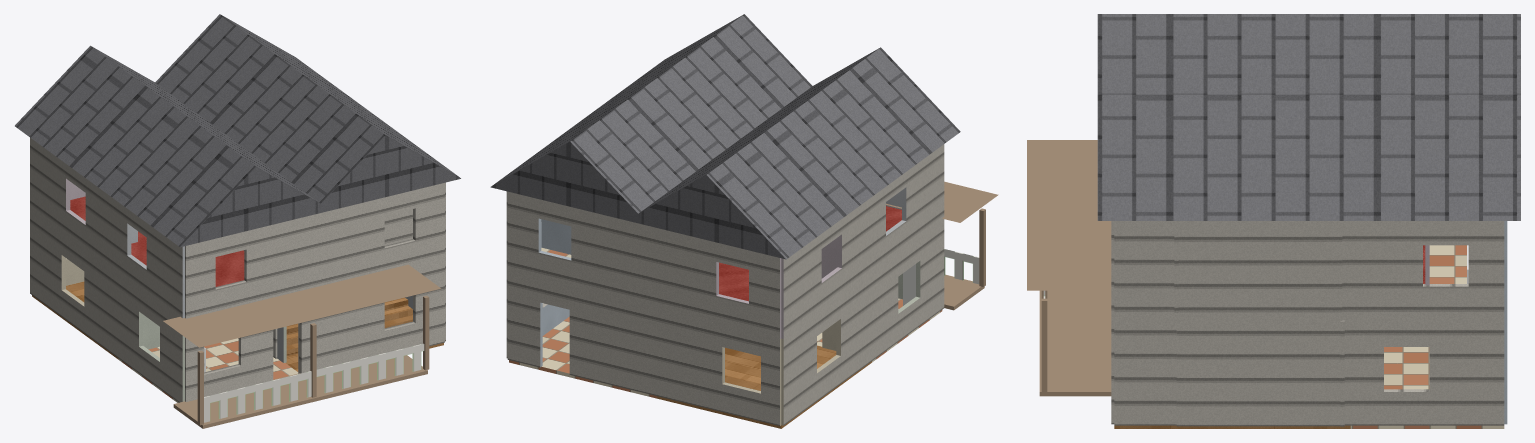
File: house3.glb
The picture shows the model from 3 angles, left to right: view 1: azimuth 30°, elevation 25°; view 2: azimuth 150°, elevation 25°; view 3: azimuth 270°, elevation 25°; orthographic projection. The views are drawn at different scales.
Visible parts, largest first — view 1: house3_134_structure-col; view 2: house3_134_structure-col; view 3: house3_134_structure-col.
Boxes of the visible parts, x1,y1,x2,y2 form: house3_134_structure-col: [15, 14, 460, 428]; house3_134_structure-col: [490, 14, 998, 428]; house3_134_structure-col: [1027, 14, 1520, 428].
Size of the model in its own units: 10.3 by 7.82 by 11.9.
16 materials, 11 textured.
